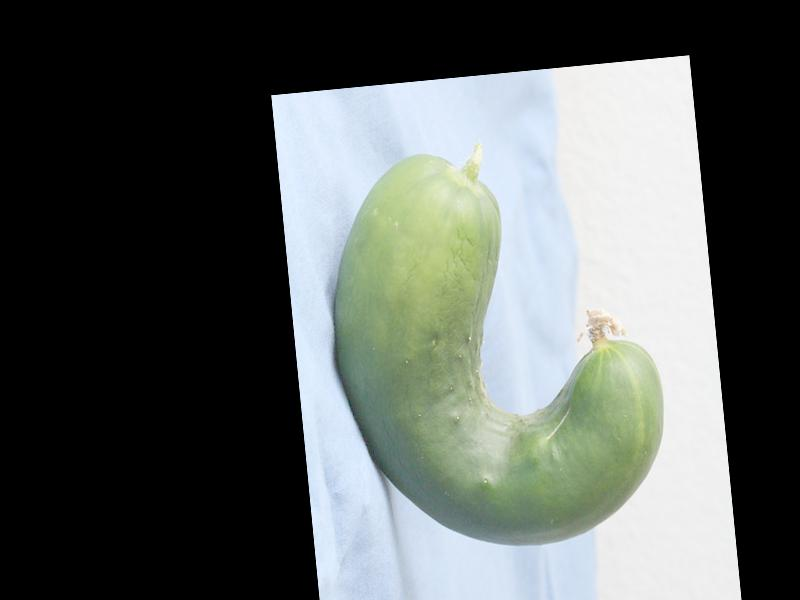Cucumber: (317, 133, 677, 563)
